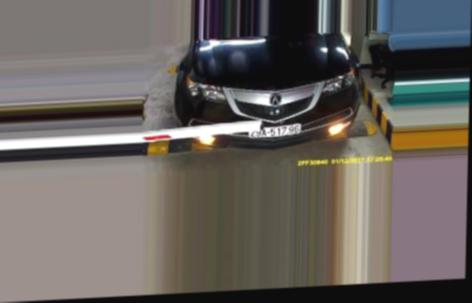License_Plate: (245, 124, 304, 140)
